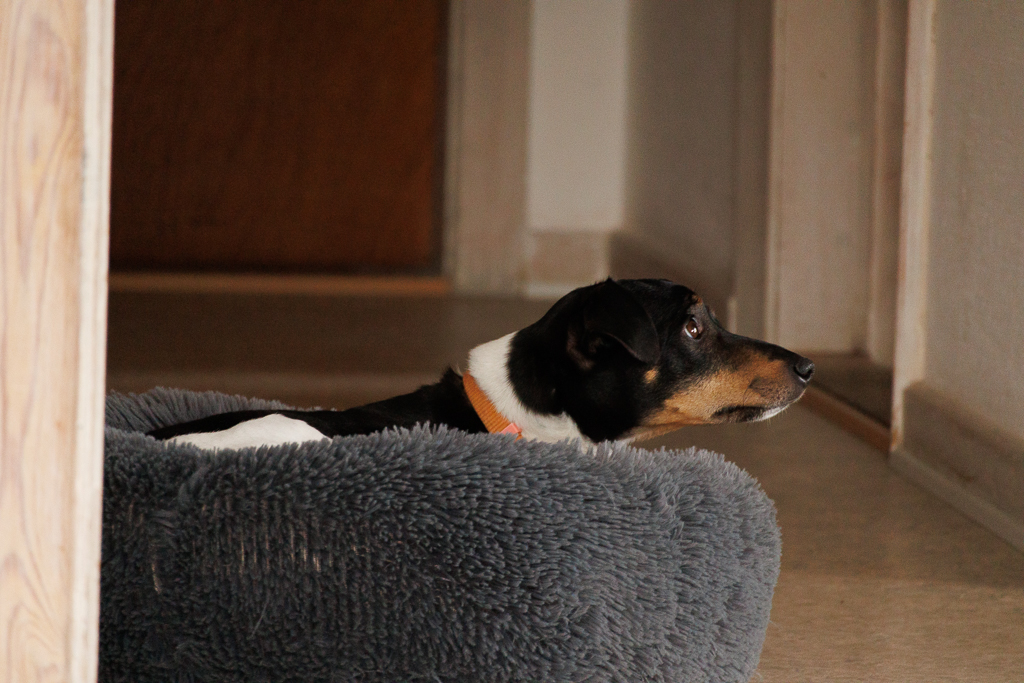Dog: (123, 271, 820, 464)
